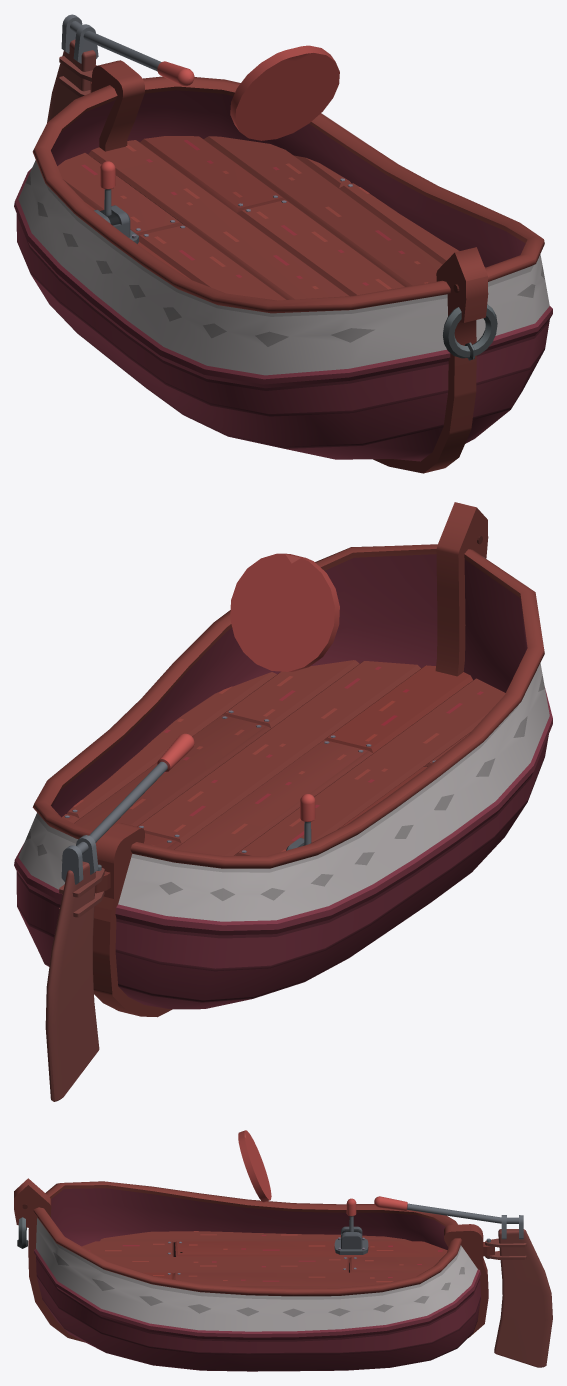
The model's file is Boat.fbx.
The picture shows the model from 3 angles, top to bottom: view 1: azimuth 30°, elevation 25°; view 2: azimuth 150°, elevation 25°; view 3: azimuth 270°, elevation 25°; orthographic projection. The views are drawn at different scales.
Visible parts, largest first — view 1: Boat, Boat_StearingWheel, Boat_Rudder, Boat_GasLever; view 2: Boat, Boat_Rudder, Boat_StearingWheel; view 3: Boat, Boat_Rudder, Boat_StearingWheel.
Part boxes in pixels (x1=…): Boat: x1=14, y1=60, x2=552, y2=473; Boat_StearingWheel: x1=230, y1=45, x2=339, y2=140; Boat_Rudder: x1=47, y1=14, x2=194, y2=122; Boat_GasLever: x1=100, y1=161, x2=115, y2=215; Boat: x1=14, y1=502, x2=552, y2=1017; Boat_Rudder: x1=45, y1=733, x2=194, y2=1101; Boat_StearingWheel: x1=230, y1=553, x2=339, y2=671; Boat: x1=14, y1=1178, x2=494, y2=1371; Boat_Rudder: x1=374, y1=1196, x2=552, y2=1367; Boat_StearingWheel: x1=238, y1=1130, x2=271, y2=1202.
Size of the model in its own units: 204 by 214 by 449.
